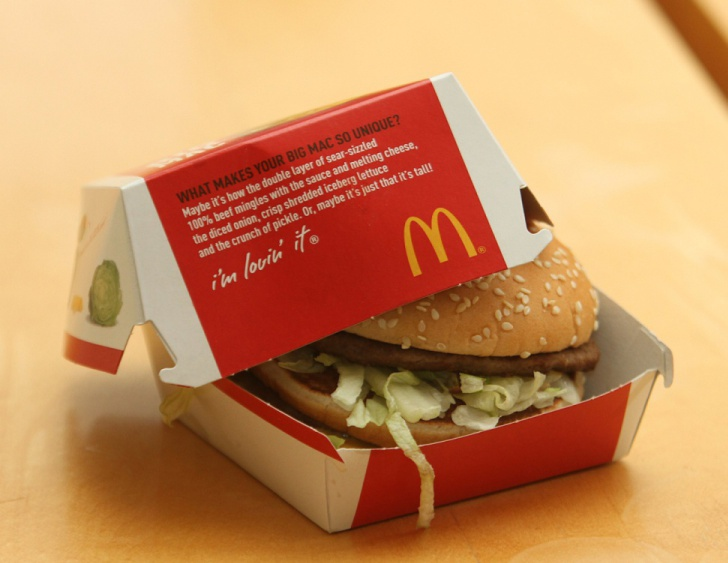mcdonalds: (393, 203, 485, 275)
